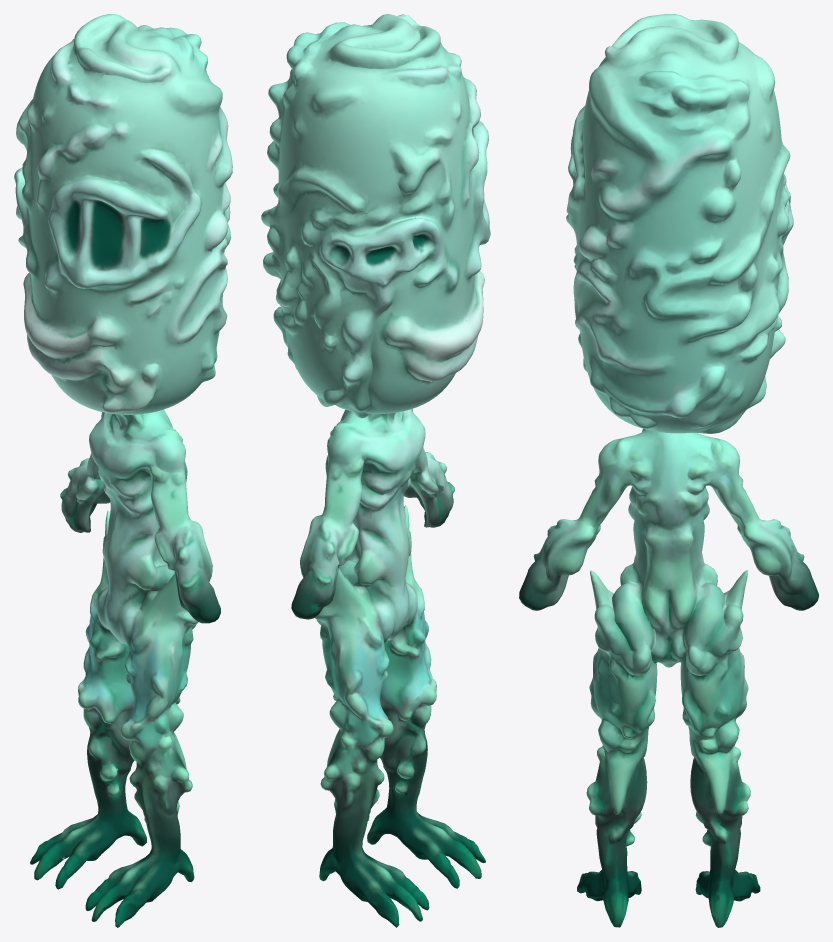
The model's file is Project 5.glb.
The picture shows the model from 3 angles, left to right: view 1: azimuth 30°, elevation 25°; view 2: azimuth 150°, elevation 25°; view 3: azimuth 270°, elevation 25°; orthographic projection. The views are drawn at different scales.
Parts seen in each view (by area): view 1: Sphere; view 2: Sphere; view 3: Sphere.
Part boxes in pixels (<box>): Sphere: <box>14,14,232,927</box>; Sphere: <box>261,14,490,927</box>; Sphere: <box>519,14,818,927</box>.
Size of the model in its own units: 1.95 by 8.55 by 2.61.
1 material, 1 textured.
